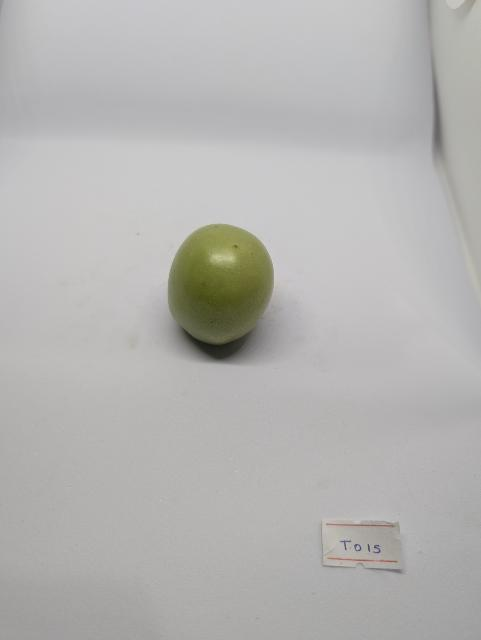green: (164, 219, 277, 348)
